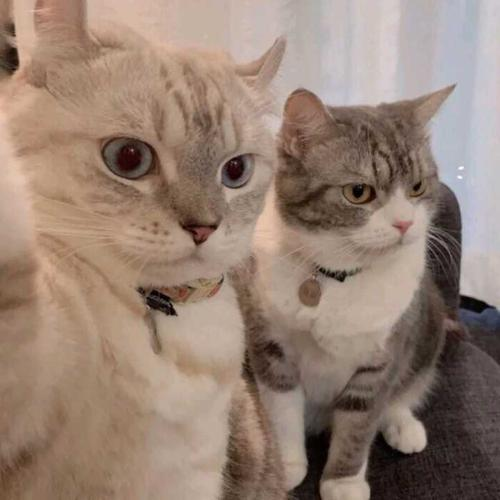cat: (15, 51, 280, 307), (285, 72, 455, 290)
